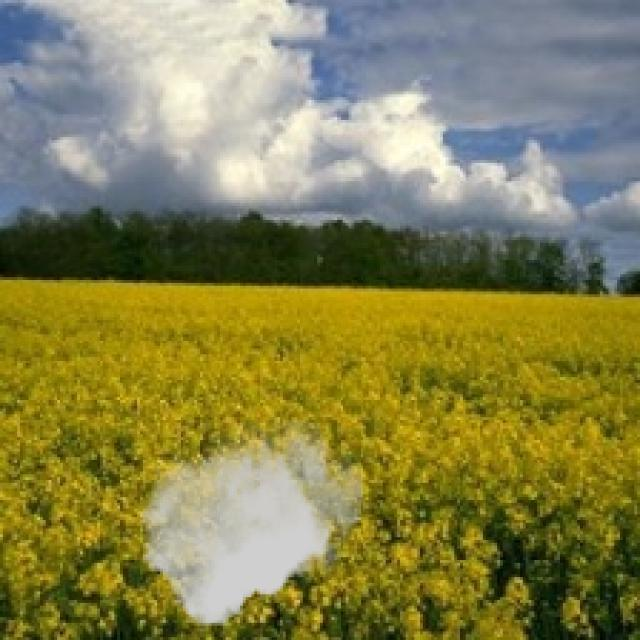Smoke: (140, 420, 363, 626)
